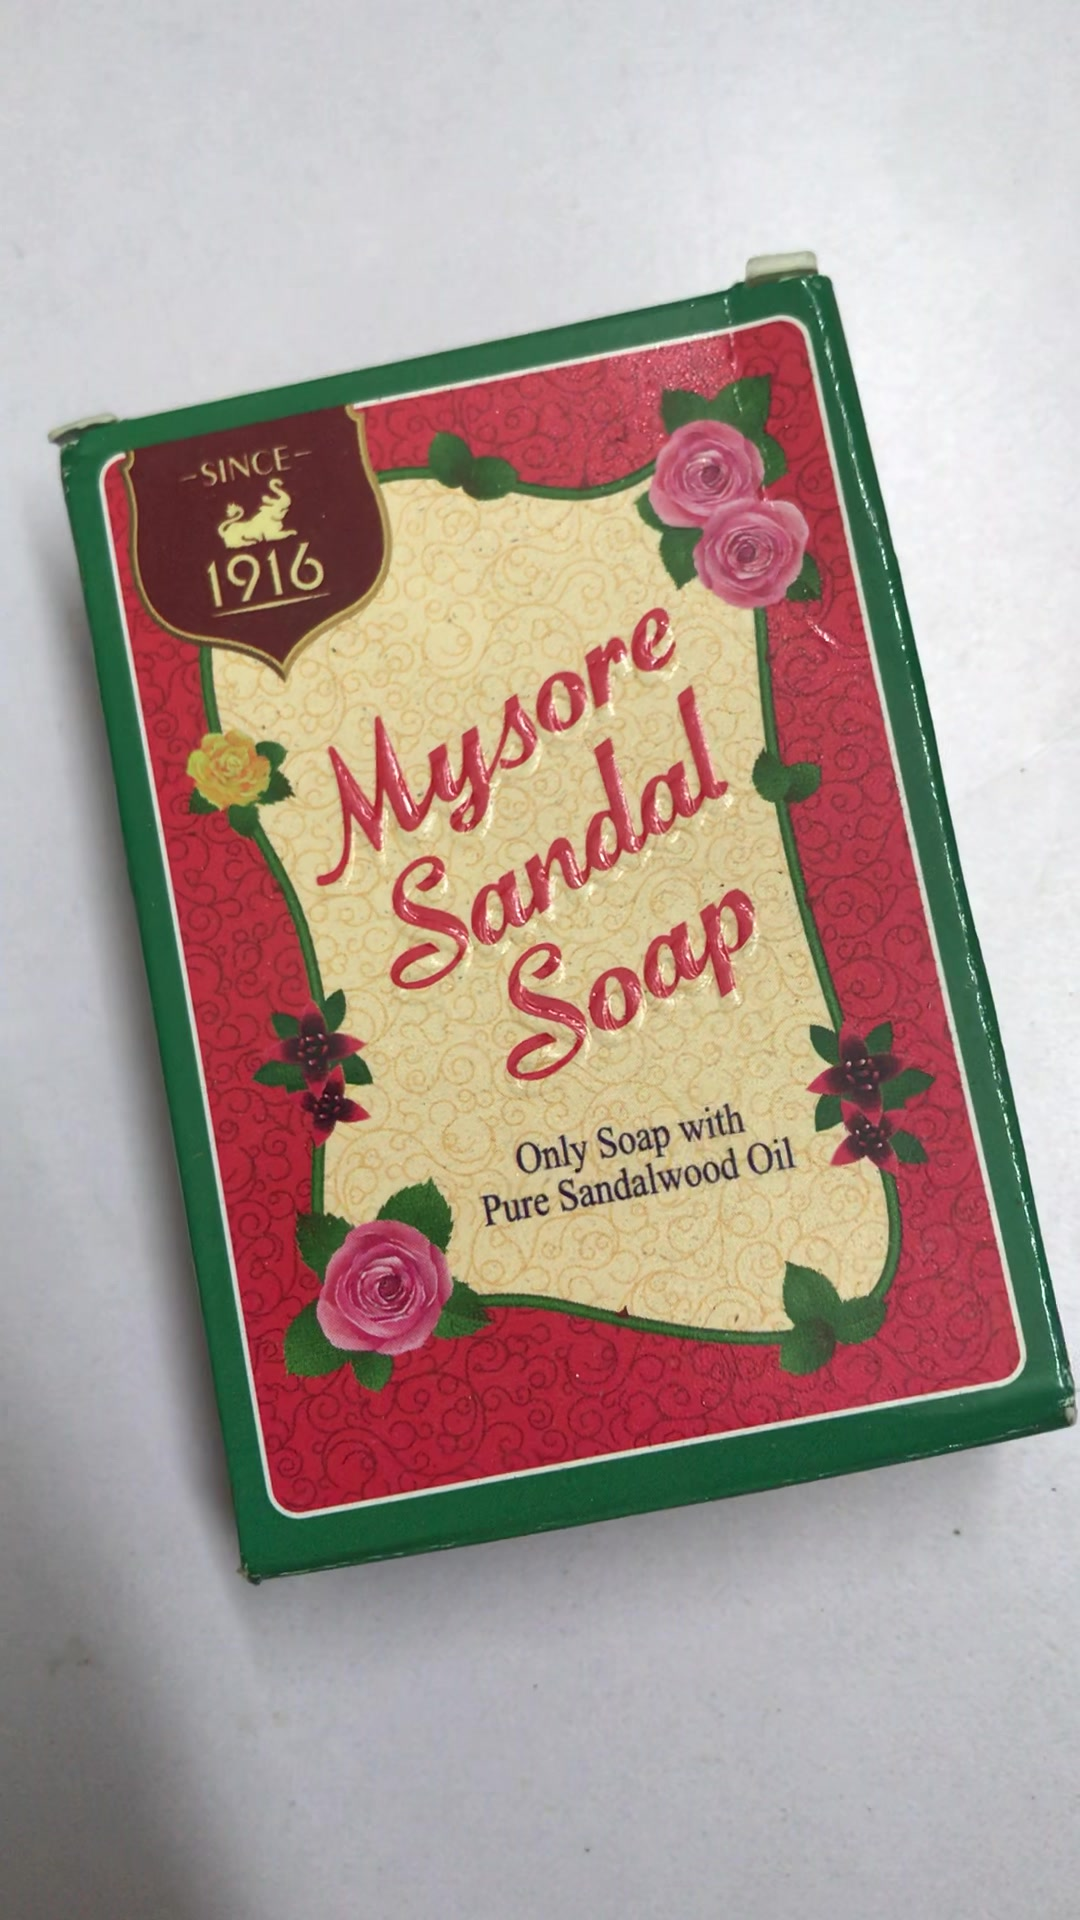mysore sandal soap: (51, 252, 1072, 1577)
